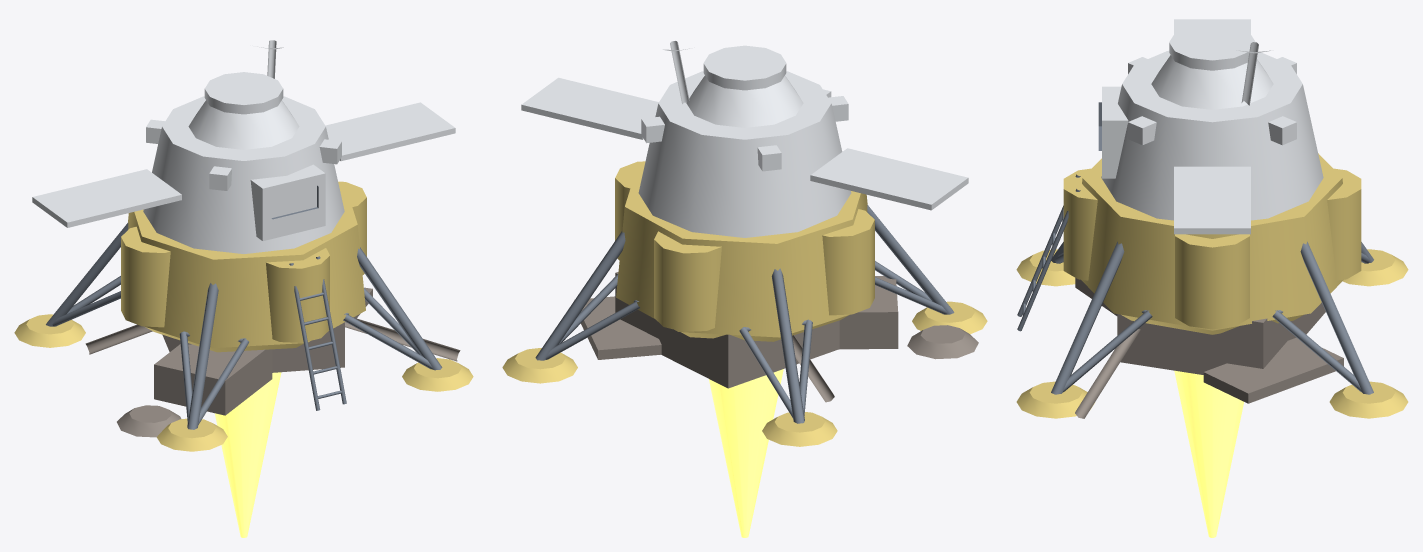
Rendered from lander.glb.
The picture shows the model from 3 angles, left to right: view 1: azimuth 30°, elevation 25°; view 2: azimuth 150°, elevation 25°; view 3: azimuth 270°, elevation 25°; orthographic projection. The views are drawn at different scales.
Visible parts, largest first — view 1: Lander_Intact, Lander_Destroyed, Thruster_Flame; view 2: Lander_Intact, Lander_Destroyed, Thruster_Flame; view 3: Lander_Intact, Lander_Destroyed, Thruster_Flame.
Part boxes in pixels (box(x1,y1,x2,y2)): Lander_Intact: box(14, 40, 473, 451); Lander_Destroyed: box(85, 287, 460, 437); Thruster_Flame: box(214, 372, 281, 537); Lander_Intact: box(502, 41, 987, 446); Lander_Destroyed: box(574, 271, 978, 402); Thruster_Flame: box(709, 369, 783, 537); Lander_Intact: box(1016, 19, 1408, 418); Lander_Destroyed: box(1075, 278, 1343, 418); Thruster_Flame: box(1174, 370, 1243, 537).
Size of the model in its own units: 5.25 by 6.2 by 4.16.
